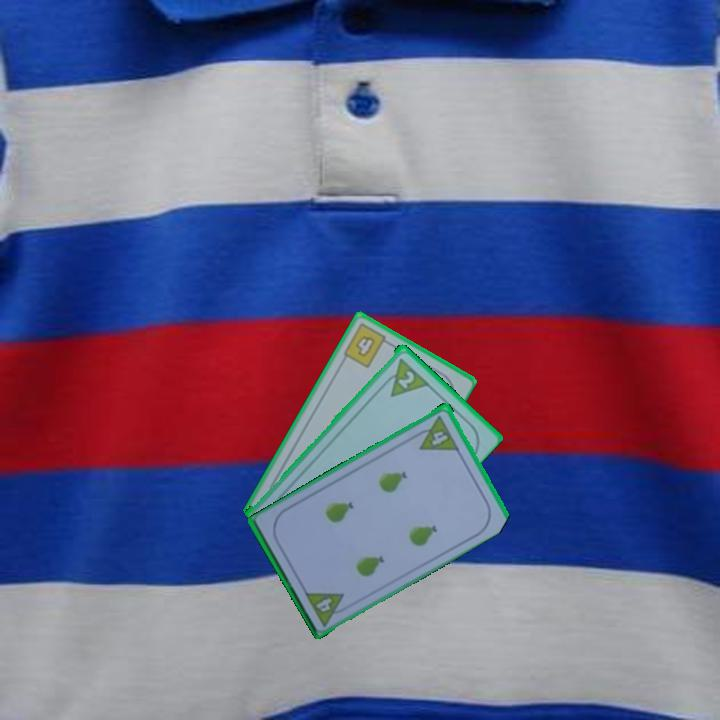2p: (394, 367, 418, 391)
4b: (340, 319, 394, 371)
4p: (410, 411, 462, 453), (302, 588, 354, 629)
